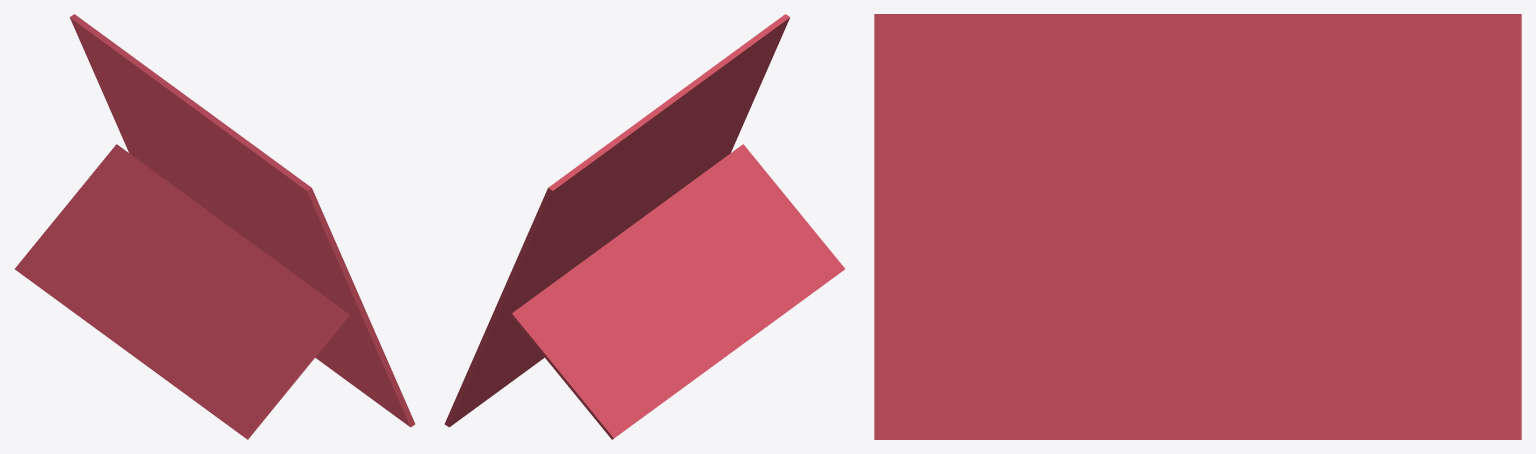
Rendered from user-design-reference.glb.
3 views of the same model, side by side, from view 1: azimuth 30°, elevation 25°; view 2: azimuth 150°, elevation 25°; view 3: azimuth 270°, elevation 25° (orthographic). The views are drawn at different scales.
Parts seen in each view (by area): view 1: Mesh_Mesh_head_geo.001_lambert2SG.001; view 2: Mesh_Mesh_head_geo.001_lambert2SG.001; view 3: Mesh_Mesh_head_geo.001_lambert2SG.001.
Part boxes in pixels (box(x1,y1,x2,y2)): Mesh_Mesh_head_geo.001_lambert2SG.001: box(15, 14, 415, 439); Mesh_Mesh_head_geo.001_lambert2SG.001: box(444, 14, 844, 439); Mesh_Mesh_head_geo.001_lambert2SG.001: box(874, 14, 1521, 439).
Size of the model in its own units: 32 by 48.42 by 79.
